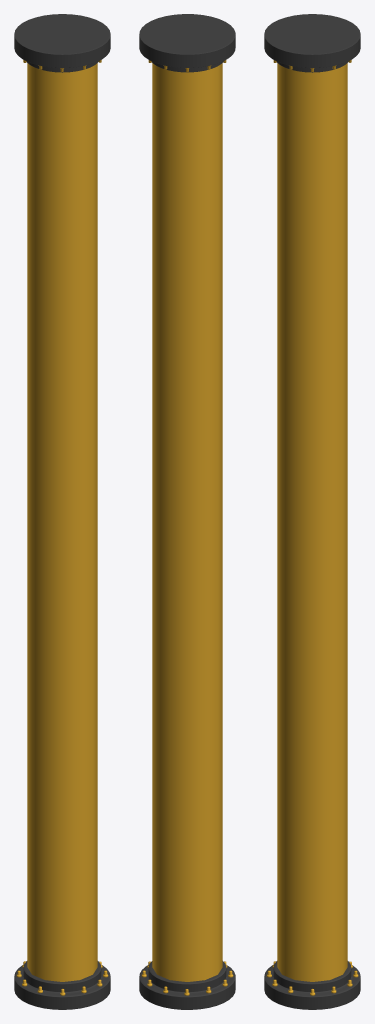
File: Pipe3m.fbx
The picture shows the model from 3 angles, left to right: view 1: azimuth 90°, elevation 25°; view 2: azimuth 150°, elevation 25°; view 3: azimuth 270°, elevation 25°; orthographic projection.
Visible parts, largest first — view 1: Pipe, Giunzione1, Giunzione2; view 2: Pipe, Giunzione1, Giunzione2; view 3: Pipe, Giunzione1, Giunzione2.
Part boxes in pixels (box(x1,y1,x2,y2)): Pipe: box(27, 63, 97, 981); Giunzione1: box(14, 14, 110, 72); Giunzione2: box(14, 961, 110, 1009); Pipe: box(152, 63, 222, 981); Giunzione1: box(139, 14, 235, 72); Giunzione2: box(139, 961, 235, 1009); Pipe: box(277, 63, 347, 981); Giunzione1: box(264, 14, 360, 72); Giunzione2: box(264, 961, 360, 1009).
Size of the model in its own units: 27.48 by 300 by 27.48.
